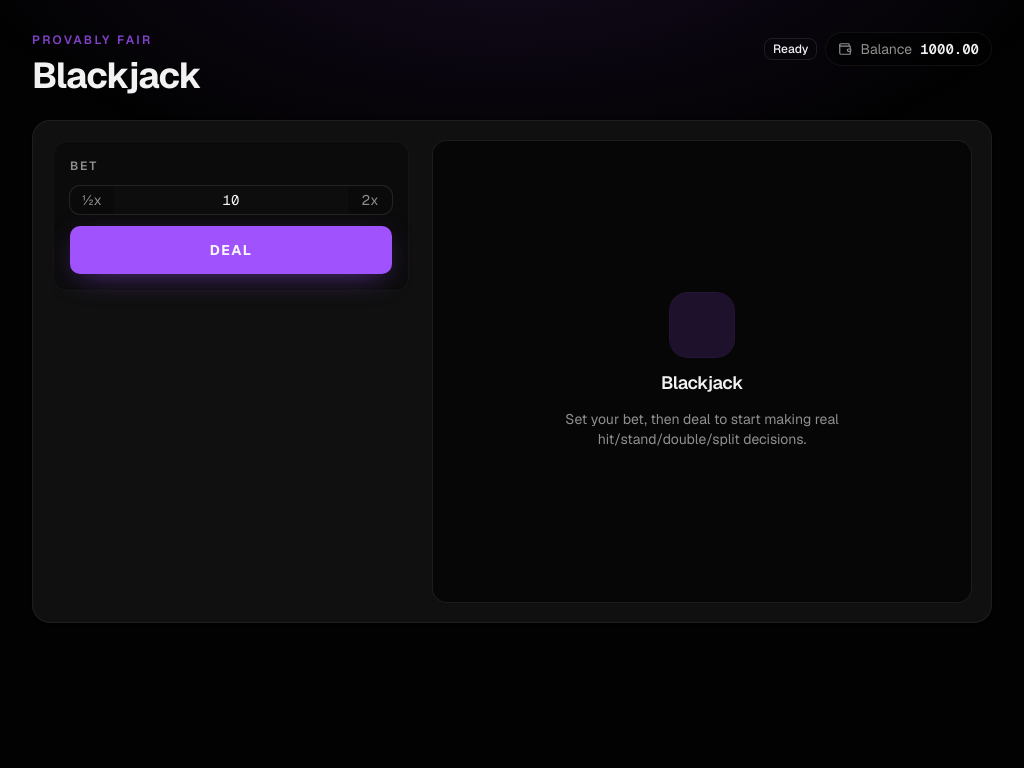
Scenario: BlackjackRoundPage › renders an immediately-settled natural without crashing
What coordinates should you click on to do the following:
click the button "DEAL"
I would click on:
 (231, 250)
Its box is x1=70 y1=226 x2=392 y2=274.
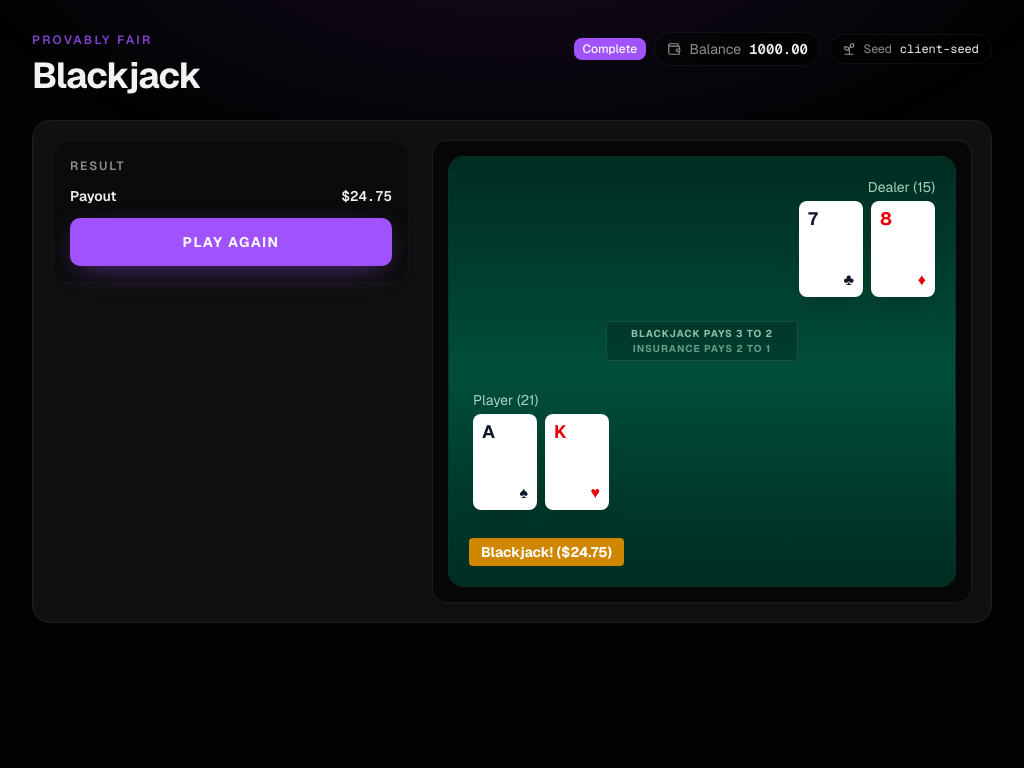
Expected: the button "PLAY AGAIN" is shown, x1=70 y1=218 x2=392 y2=266
Expected: the text "Blackjack! ($24.75)" is shown, x1=469 y1=538 x2=624 y2=566
